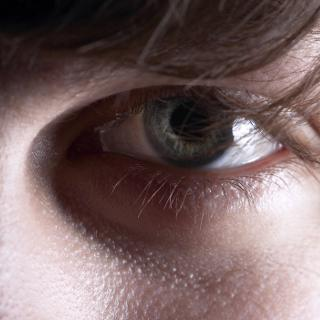pupil: (170, 99, 212, 140)
